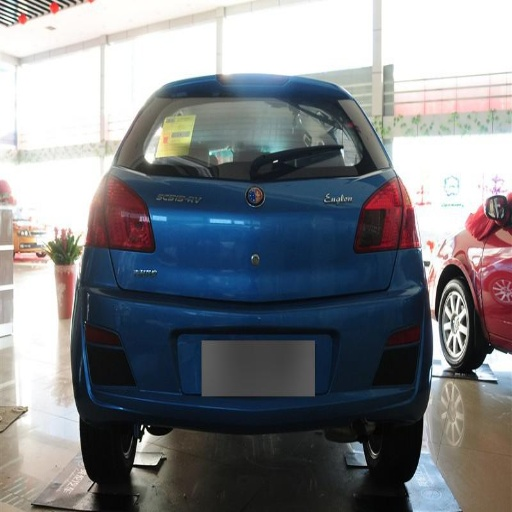back_bumper: (80, 245, 446, 418)
trunk: (115, 168, 398, 306)
